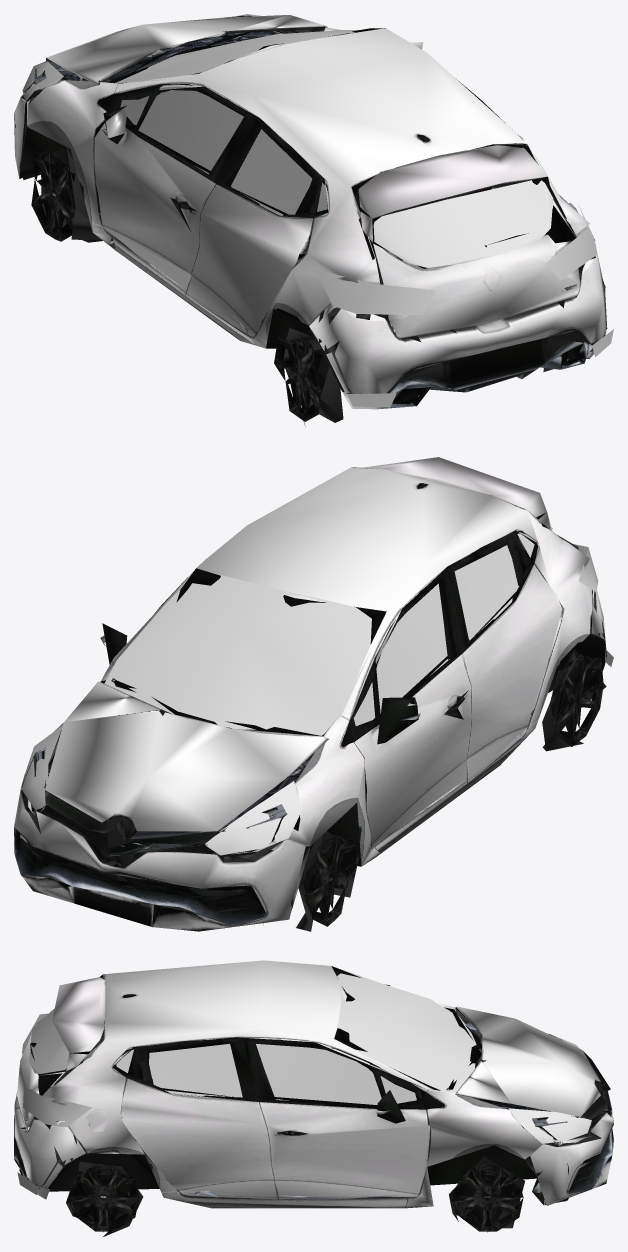
File: renova_clyo_lod2.glb
The picture shows the model from 3 angles, top to bottom: view 1: azimuth 30°, elevation 25°; view 2: azimuth 150°, elevation 25°; view 3: azimuth 270°, elevation 25°; orthographic projection. The views are drawn at different scales.
Visible parts, largest first — view 1: Body_paint, Body_glass, Body, Body_light_tail, Body_rest, Wheel_FL, Wheel_RL; view 2: Body_paint, Body_glass, Body, Wheel_RL, Wheel_FL, Body_rest; view 3: Body_paint, Body_glass, Body, Wheel_FR, Wheel_RR, Body_light_tail, Body_rest.
Boxes of the visible parts, x1,y1,x2,y2 form: Body_paint: [14, 15, 606, 409]; Body_glass: [22, 14, 587, 285]; Body: [23, 15, 605, 344]; Body_light_tail: [315, 204, 613, 407]; Body_rest: [41, 147, 607, 426]; Wheel_FL: [31, 150, 75, 241]; Wheel_RL: [274, 332, 325, 421]; Body_paint: [14, 457, 606, 931]; Body_glass: [22, 527, 552, 855]; Body: [20, 530, 537, 855]; Wheel_RL: [550, 654, 603, 746]; Wheel_FL: [303, 834, 356, 926]; Body_rest: [107, 649, 606, 931]; Body_paint: [14, 960, 613, 1208]; Body_glass: [29, 973, 591, 1143]; Body: [25, 1038, 607, 1189]; Wheel_FR: [450, 1164, 523, 1232]; Wheel_RR: [67, 1164, 139, 1231]; Body_light_tail: [17, 1013, 92, 1194]; Body_rest: [66, 1156, 524, 1236].
Bounding box in the file's own units: 1.93 × 1.45 × 4.04.
Materials: 5 (2 with a texture image).
